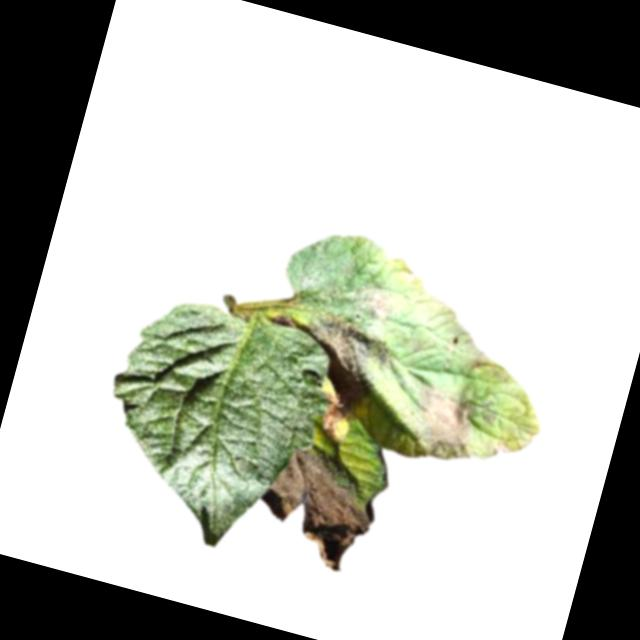Late_blight: (249, 435, 388, 578), (290, 307, 397, 409), (403, 385, 484, 469), (335, 274, 407, 328), (312, 393, 354, 448), (484, 433, 512, 463), (398, 267, 425, 290)
healthy: (80, 289, 338, 568)
